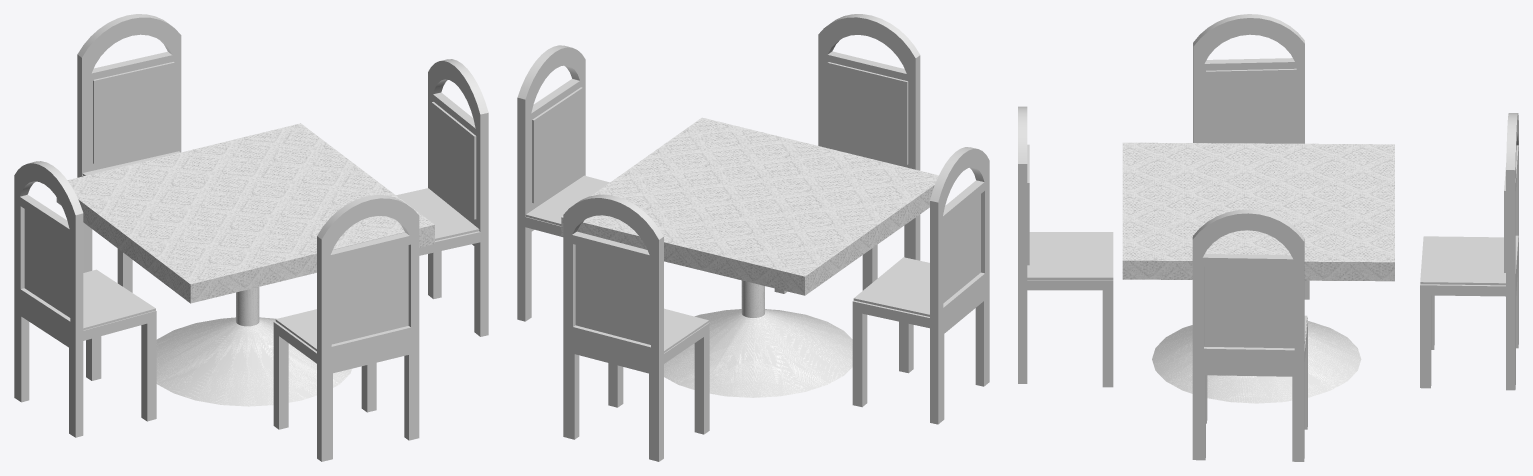
Rendered from dining.fbx.
3 views of the same model, side by side, from view 1: azimuth 30°, elevation 25°; view 2: azimuth 150°, elevation 25°; view 3: azimuth 270°, elevation 25° (orthographic).
Parts seen in each view (by area): view 1: Ground_dining; view 2: Ground_dining; view 3: Ground_dining.
Part boxes in pixels (<box>): Ground_dining: <box>14,14,488,461</box>; Ground_dining: <box>517,14,989,461</box>; Ground_dining: <box>1018,14,1518,461</box>.
Bounding box in the file's own units: 1.64 × 0.95 × 1.7.
Materials: 7 (1 with a texture image).
